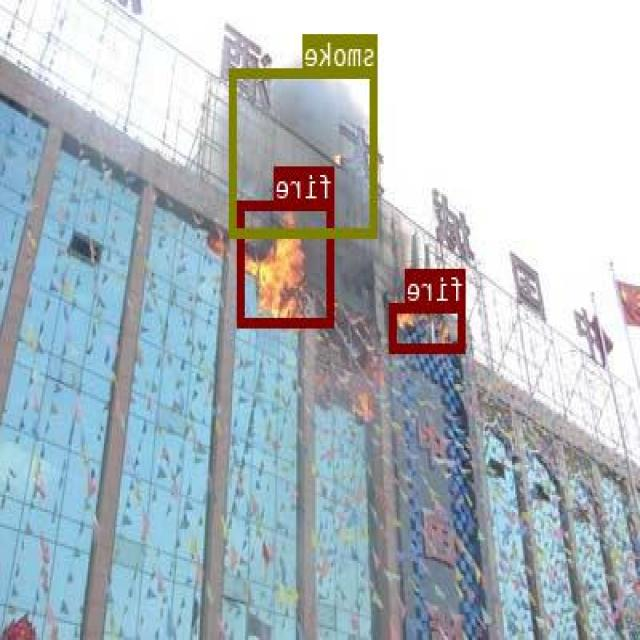fire: (239, 199, 335, 326), (392, 302, 467, 352)
smoke: (231, 67, 378, 236)
